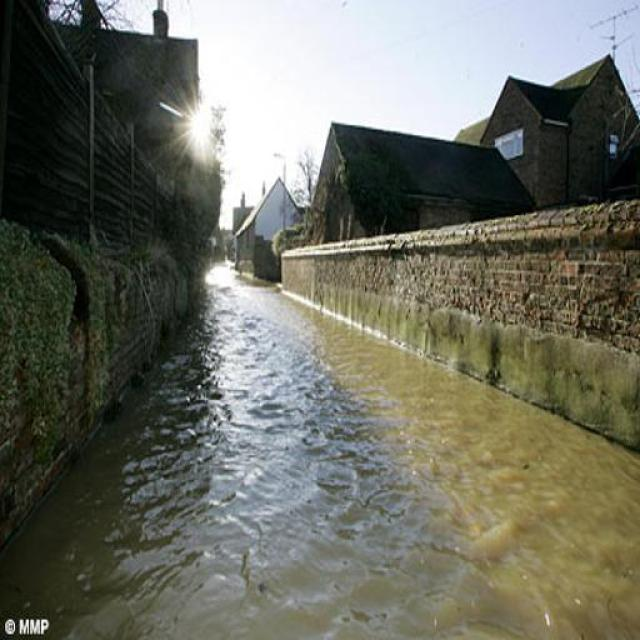puddle: (34, 510, 640, 640), (173, 348, 429, 560), (279, 388, 574, 531), (200, 265, 260, 639)
